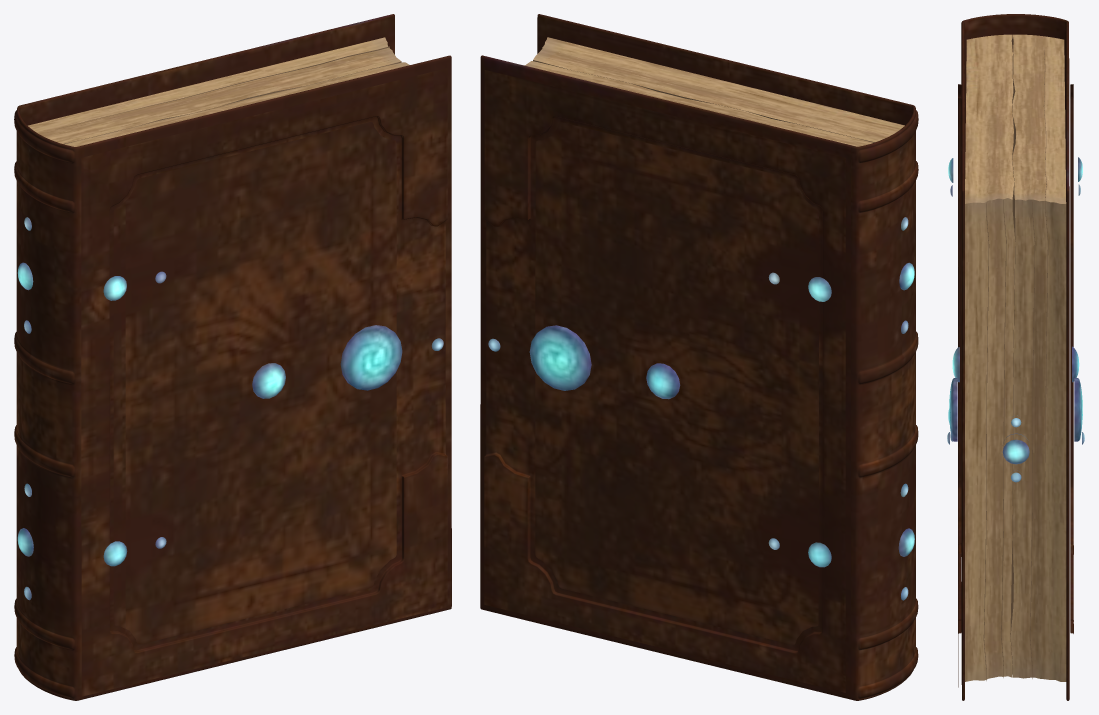
Rendered from mk_book.glb.
3 views of the same model, side by side, from view 1: azimuth 30°, elevation 25°; view 2: azimuth 150°, elevation 25°; view 3: azimuth 270°, elevation 25° (orthographic). The views are drawn at different scales.
Visible parts, largest first — view 1: Spellbook_Leather_001, Spellbook_Paper_001, Spellbook_Jewels_001; view 2: Spellbook_Leather_001, Spellbook_Paper_001, Spellbook_Jewels_001; view 3: Spellbook_Paper_001, Spellbook_Leather_001, Spellbook_Jewels_001.
Part boxes in pixels (x1=…): Spellbook_Leather_001: x1=14, y1=14, x2=451, y2=700; Spellbook_Paper_001: x1=28, y1=37, x2=409, y2=146; Spellbook_Jewels_001: x1=17, y1=217, x2=443, y2=600; Spellbook_Leather_001: x1=480, y1=14, x2=918, y2=700; Spellbook_Paper_001: x1=524, y1=37, x2=904, y2=146; Spellbook_Jewels_001: x1=488, y1=217, x2=914, y2=600; Spellbook_Paper_001: x1=965, y1=34, x2=1066, y2=681; Spellbook_Leather_001: x1=958, y1=14, x2=1073, y2=700; Spellbook_Jewels_001: x1=947, y1=157, x2=1084, y2=482.
Size of the model in its own units: 23.51 by 29.85 by 7.29.
1 material, 1 textured.
